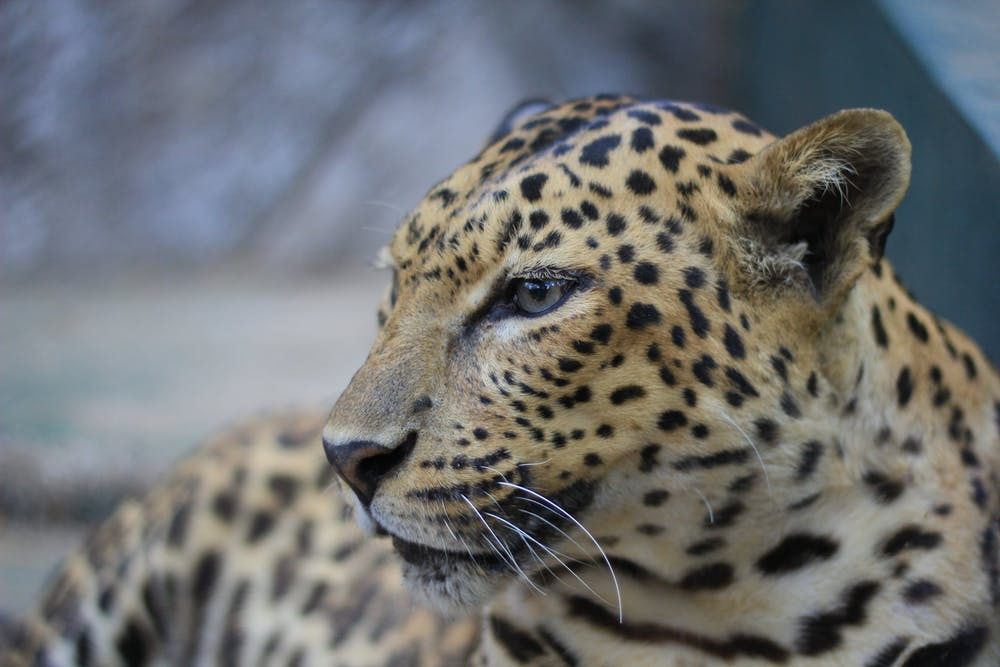cheetah: (279, 65, 937, 618)
